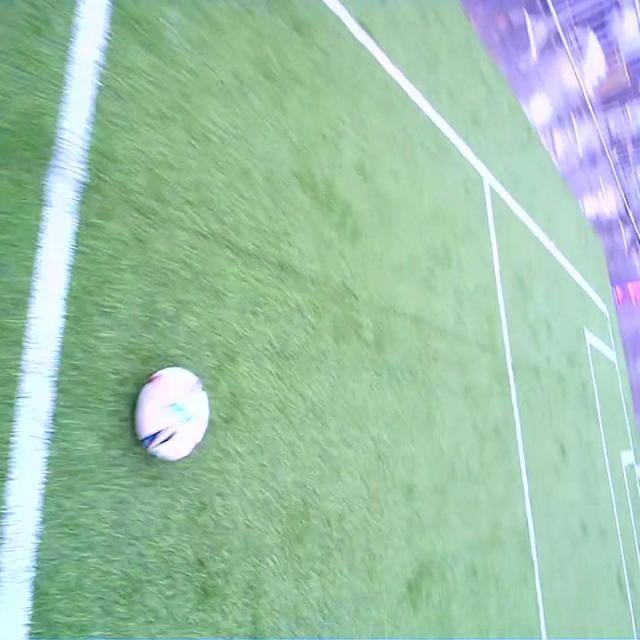ball: (138, 366, 207, 460)
